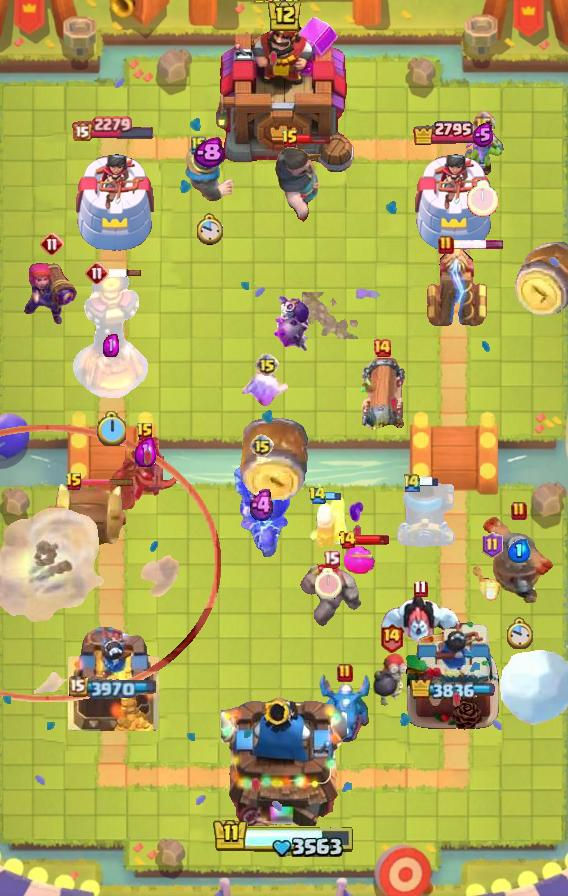barbarian-hut: (104, 434, 186, 510)
battle-healer: (359, 352, 405, 434)
clock: (212, 818, 356, 860)
dark-prince: (472, 517, 566, 603)
dirt: (238, 414, 310, 504), (512, 239, 567, 317)
electro-dragon: (72, 273, 150, 401)
electro-spirit: (193, 137, 225, 169), (247, 490, 278, 522), (135, 437, 156, 466), (472, 122, 494, 148), (509, 539, 532, 563), (103, 335, 119, 358)
elixir: (467, 179, 499, 217), (96, 411, 126, 446), (505, 617, 533, 651), (195, 213, 223, 246), (315, 569, 342, 600)
emote: (451, 238, 504, 249), (81, 477, 135, 486), (354, 534, 390, 546), (297, 133, 331, 145), (106, 268, 142, 278), (420, 476, 439, 488), (324, 490, 342, 502)
firecracker: (184, 141, 235, 201)
fisherman: (302, 293, 362, 340)
goblin-ball: (272, 296, 312, 354)
goblin-brawler: (422, 243, 490, 329)
graveyard: (318, 672, 372, 746)
ice-golem: (372, 651, 410, 707)
ice-spirit-evolution: (473, 561, 511, 603)
inferno-dragon: (233, 463, 291, 557)
king-tower: (211, 7, 357, 181), (221, 690, 347, 826)
mega-minion: (24, 255, 80, 327)
miner: (344, 544, 376, 574)
mirror: (242, 370, 292, 408)
musketeer: (395, 483, 455, 547)
queen-tower: (404, 617, 502, 731), (68, 627, 160, 731), (71, 144, 157, 255), (410, 144, 496, 255)
rage: (380, 597, 460, 651)
royal-ghost: (0, 425, 220, 702)
royal-hog: (275, 144, 325, 222)
selected: (72, 115, 156, 141), (69, 676, 159, 700), (413, 119, 496, 145), (410, 680, 496, 699)
text: (380, 623, 405, 654), (40, 232, 64, 256), (85, 261, 109, 285), (255, 353, 279, 377), (250, 434, 274, 458), (481, 532, 502, 558), (473, 111, 496, 134), (402, 471, 422, 492), (372, 338, 392, 358), (338, 530, 358, 550), (308, 486, 327, 505), (281, 129, 299, 149), (136, 422, 154, 442), (65, 472, 83, 492), (323, 551, 341, 569), (191, 135, 207, 155), (438, 235, 454, 255), (511, 501, 527, 521), (337, 663, 353, 683), (413, 579, 428, 597)
the-log: (44, 482, 134, 550)
tombstone: (307, 493, 349, 551)
valkyrie-evolution: (297, 562, 365, 632)
wall-breaker: (498, 646, 568, 726)
zap: (462, 125, 504, 177)
